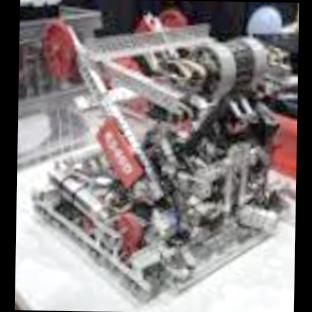Robot: (31, 20, 283, 300)
